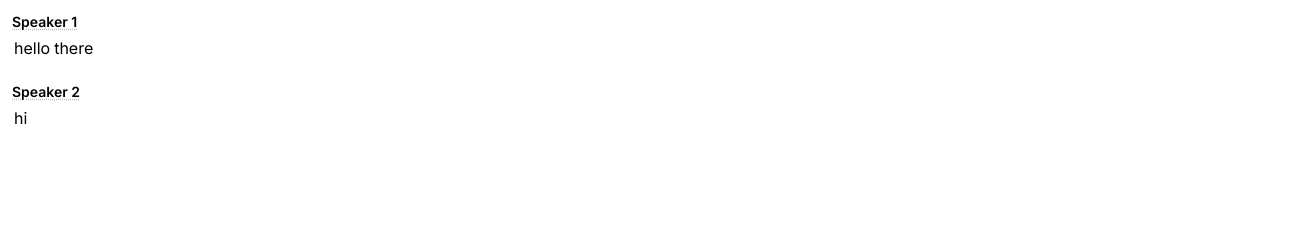
Test: RefineEditor — VFTE speaker tagging › tagging someone else shows a pending badge
The width and height of the screenshot is (1292, 242).
Click the button "Speaker 1" at (45, 22), box left=12, top=12, right=77, bottom=32
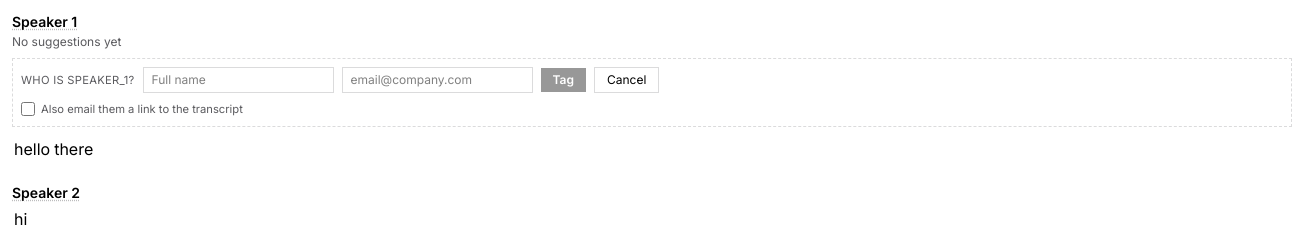
Type "Bob" into the field with placeholder "Full name" at (238, 80), box left=142, top=67, right=334, bottom=93
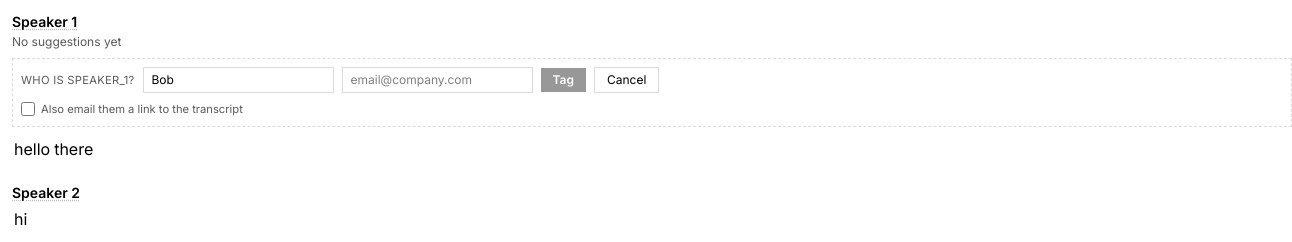
Type "bob@x.com" into the field with placeholder "email@company.com" at (437, 80), box left=342, top=67, right=532, bottom=93
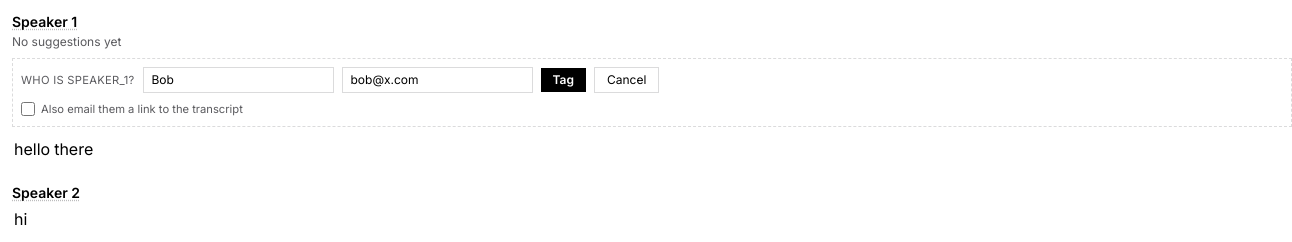
Click the button "Tag" at (563, 80), box left=540, top=68, right=586, bottom=92
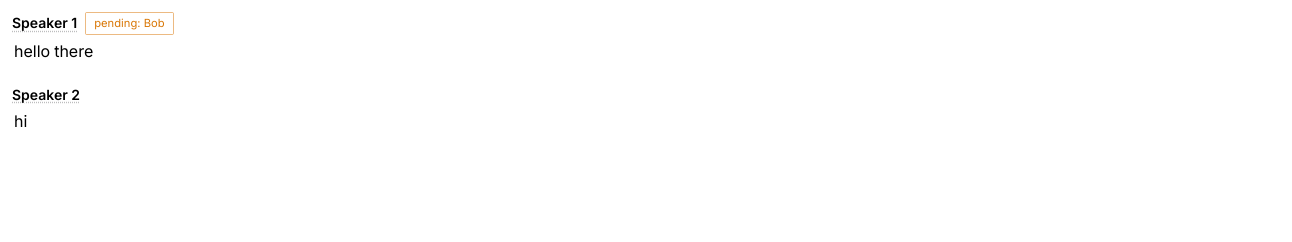
Check: the text "pending: Bob" is shown, box left=85, top=12, right=174, bottom=35
